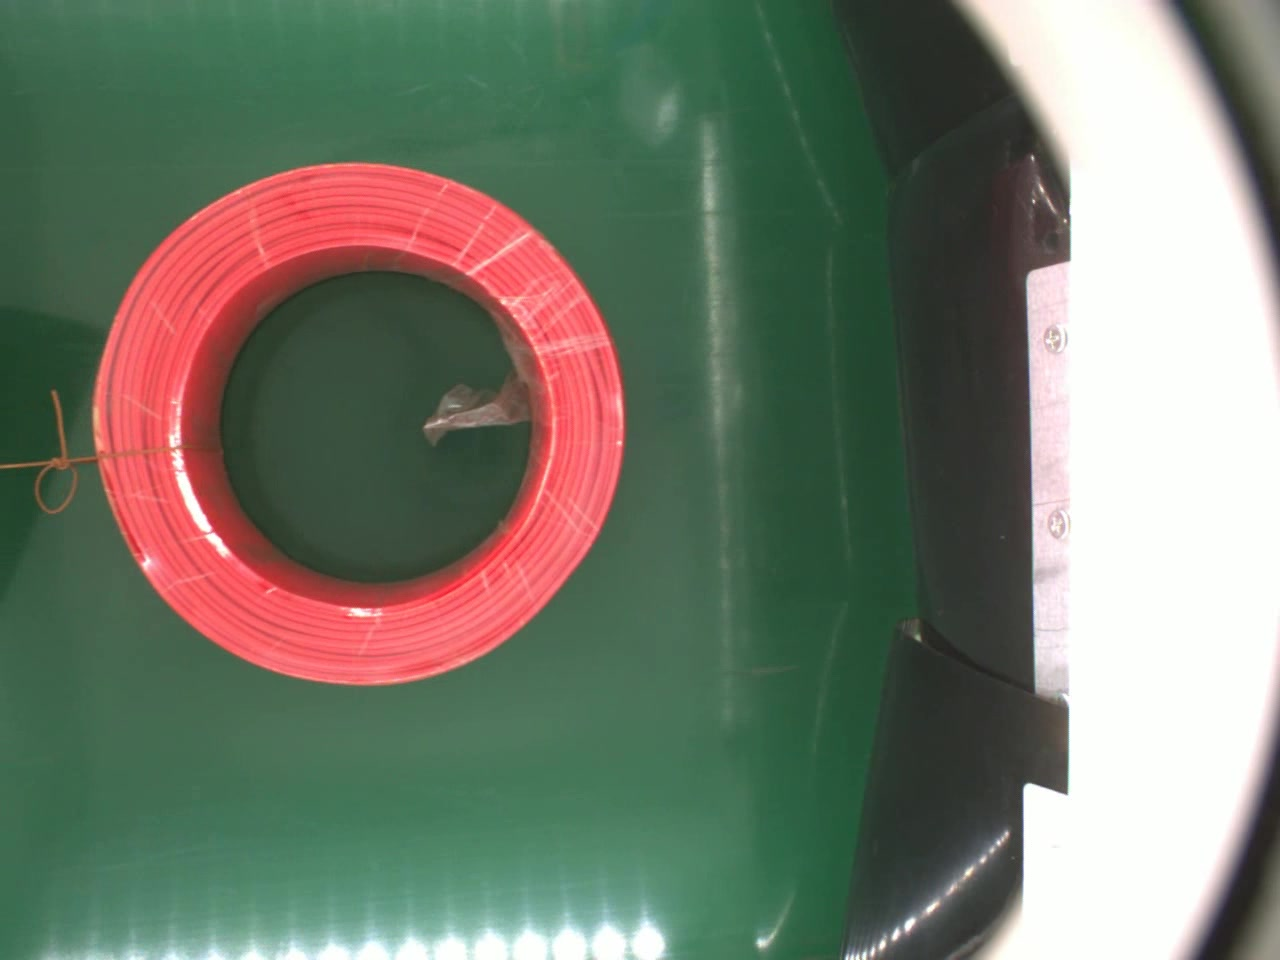red: (89, 159, 627, 690)
